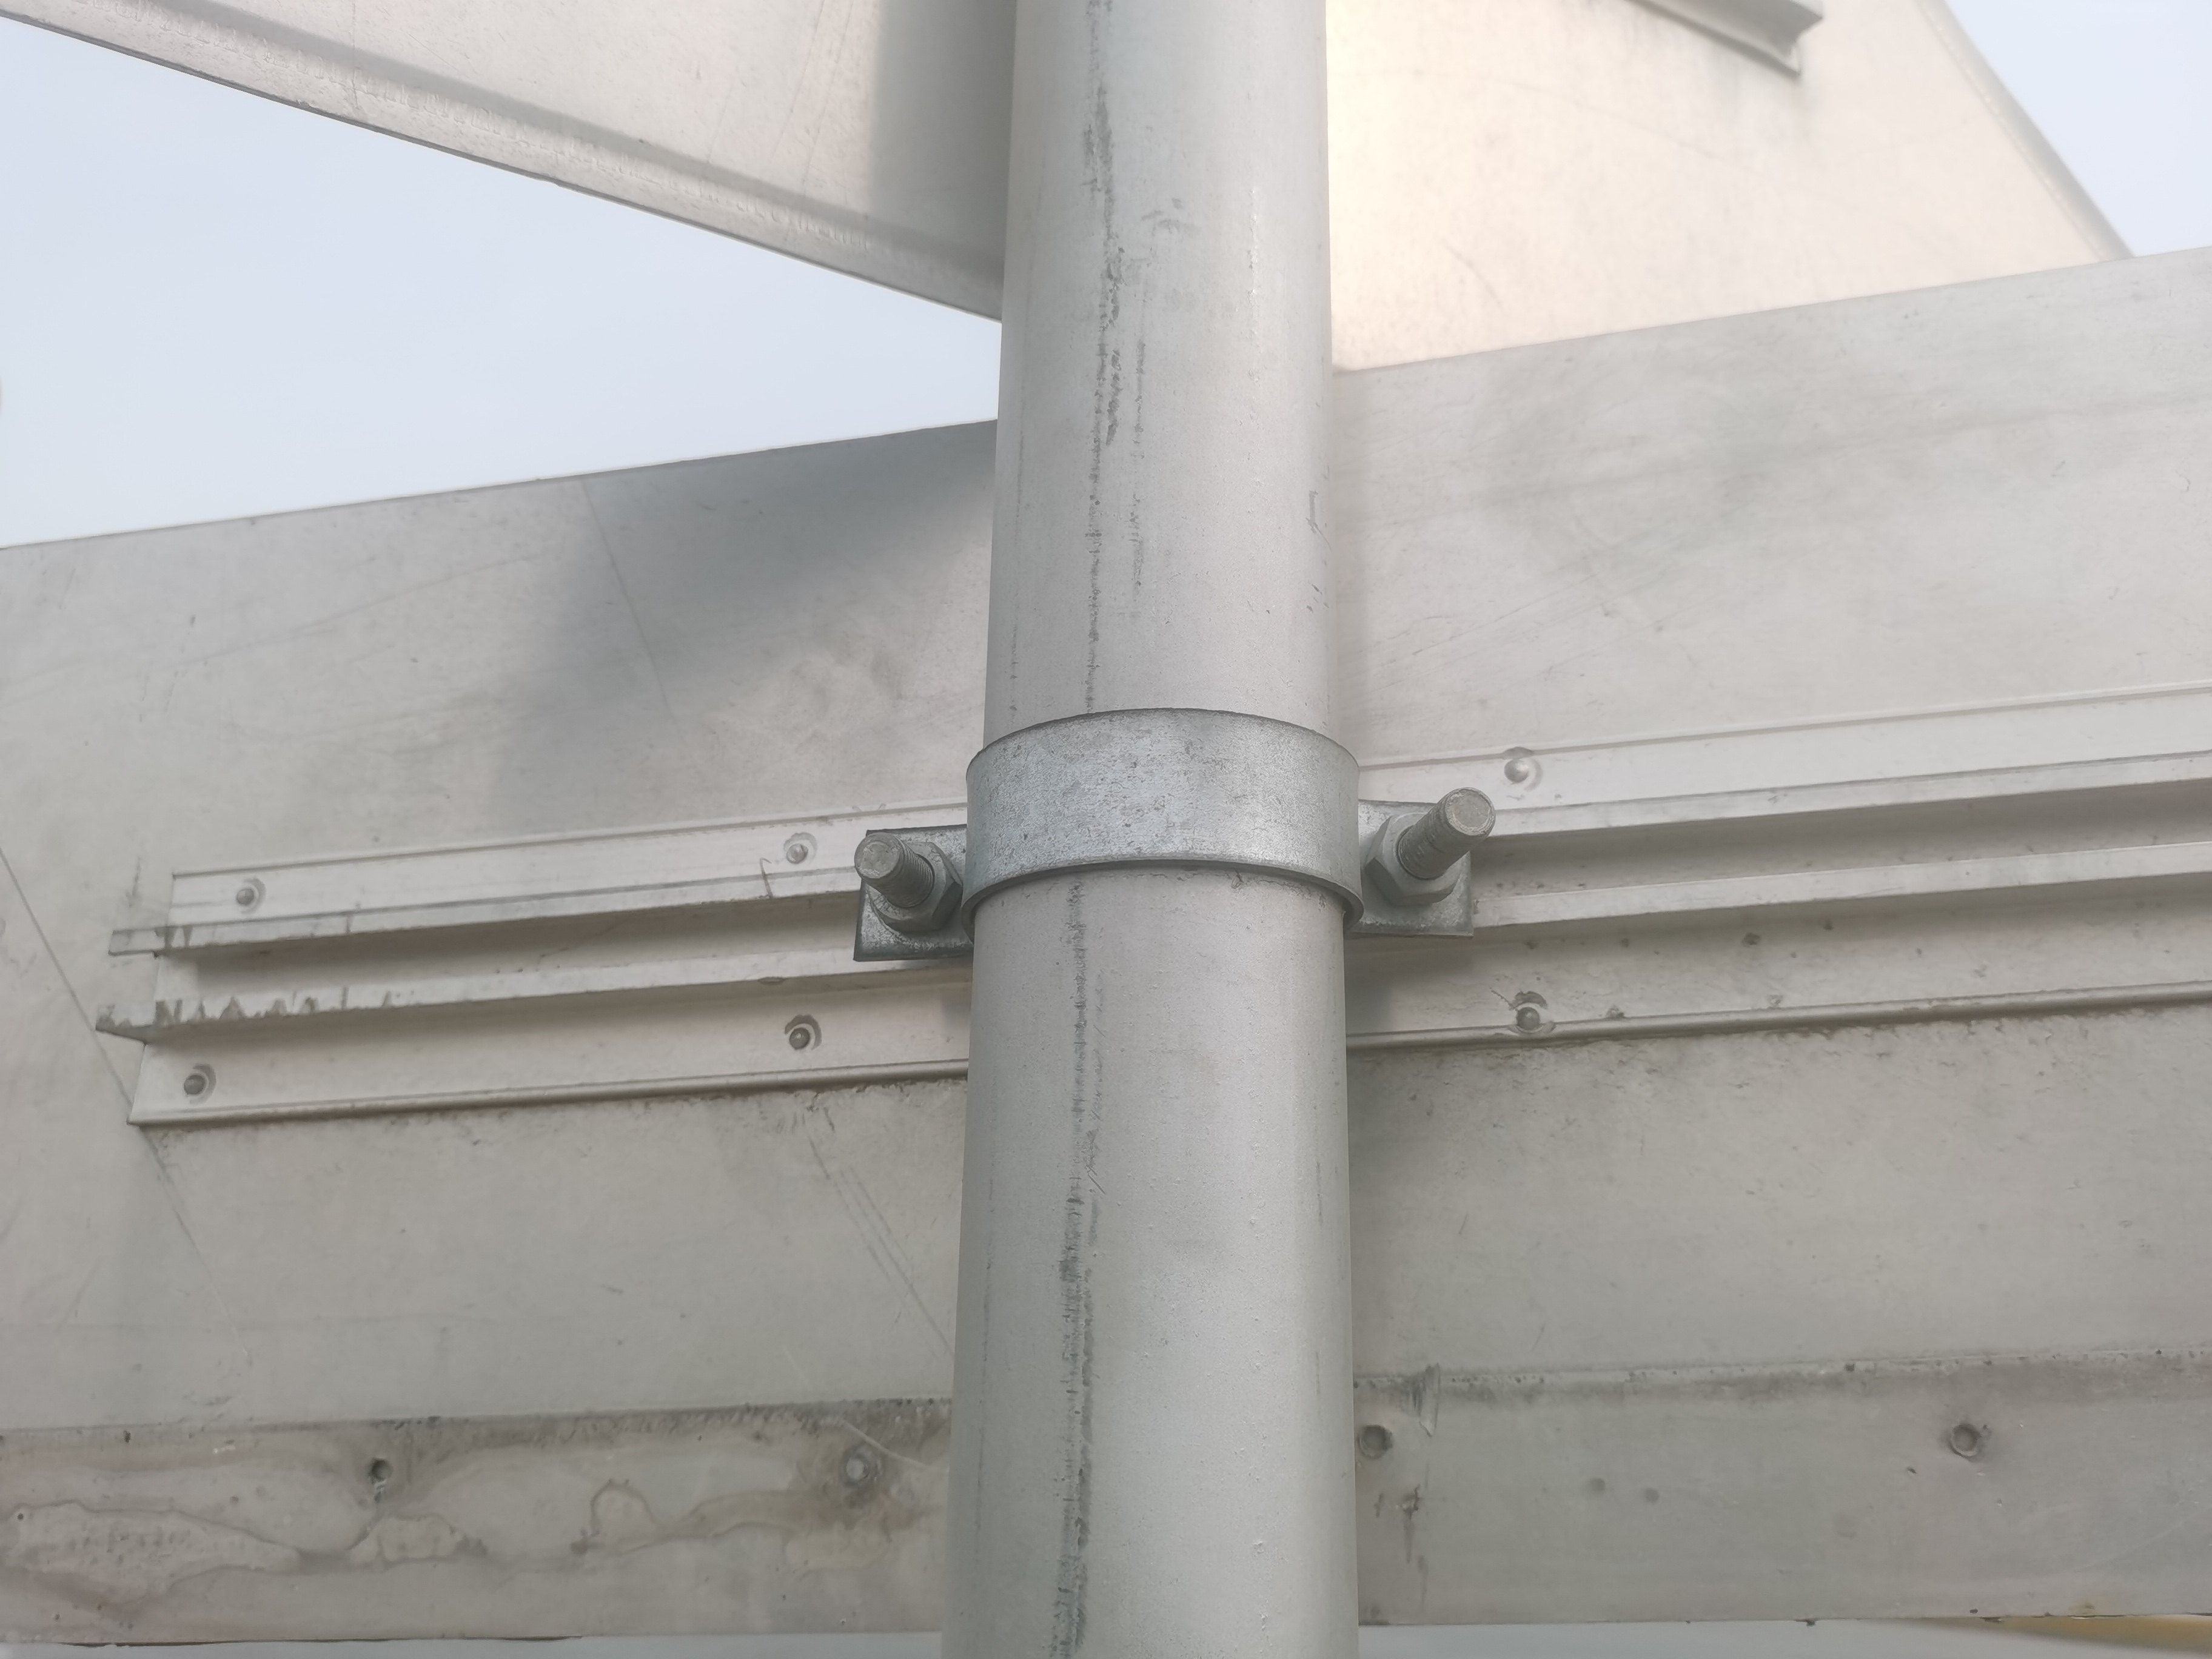bolt_b: (1360, 810, 1468, 908), (862, 838, 967, 936)
